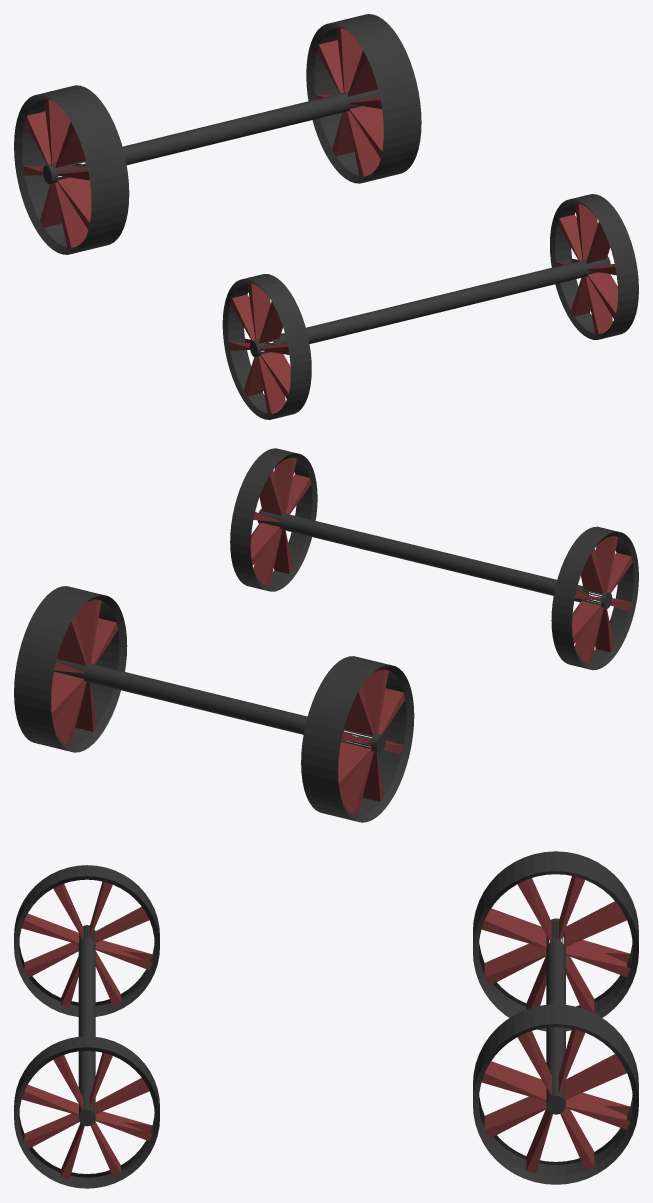
File: spoked-wheel-set.dae
3 views of the same model, one above another, from view 1: azimuth 30°, elevation 25°; view 2: azimuth 150°, elevation 25°; view 3: azimuth 270°, elevation 25° (orthographic). The views are drawn at different scales.
Visible parts, largest first — view 1: Cylinder_002, Cylinder_008; view 2: Cylinder_002, Cylinder_008; view 3: Cylinder_002, Cylinder_008.
Part boxes in pixels (left/top/right/bottom): Cylinder_002: left=14, top=14, right=421, bottom=254; Cylinder_008: left=222, top=194, right=638, bottom=419; Cylinder_002: left=14, top=586, right=414, bottom=822; Cylinder_008: left=230, top=448, right=638, bottom=670; Cylinder_002: left=473, top=851, right=638, bottom=1184; Cylinder_008: left=14, top=865, right=159, bottom=1188.
Bounding box in the file's own units: 1.48 × 2.12 × 0.6099.
